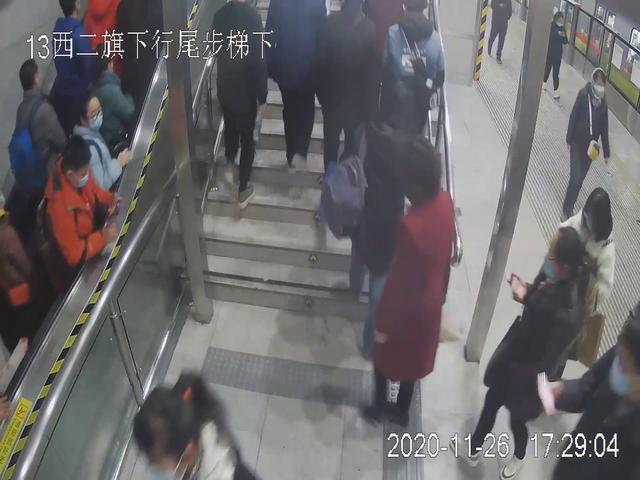person: (453, 224, 592, 469), (363, 138, 474, 431), (192, 1, 266, 207), (34, 137, 114, 275), (266, 1, 321, 176), (63, 89, 135, 209), (562, 66, 619, 217), (540, 11, 573, 97), (482, 1, 515, 62)
